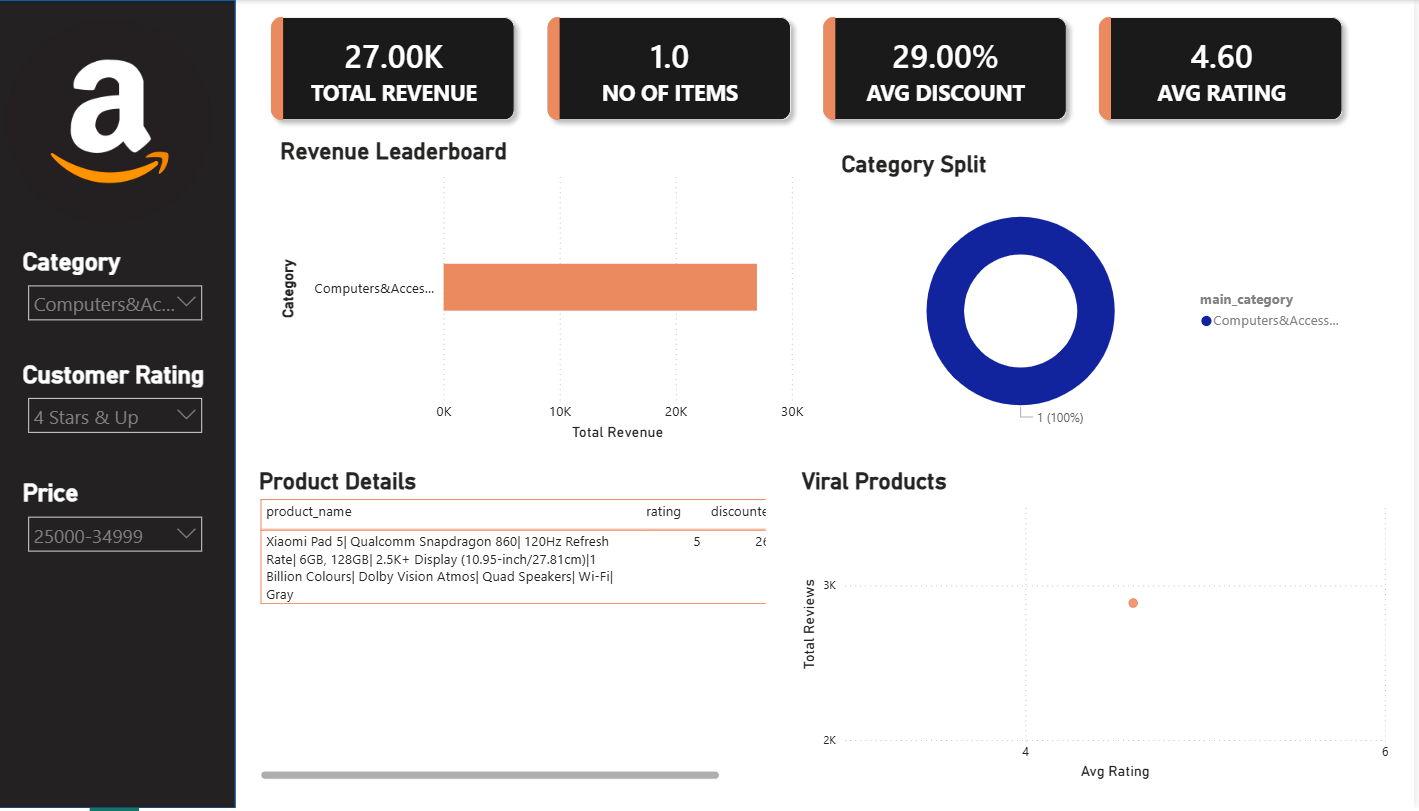

What the dashboard file says about the page in this screenshot:
{"tool":"powerbi","page":{"name":"Page 1","canvas":[1400,800],"ordinal":0},"visuals":[{"type":"shape","box":[0,0,234.1,800],"z":0},{"type":"image","box":[7.5,18,202.6,202.6],"z":1000},{"type":"slicer","title":"Category","fields":{"Values":["amazon_cleaned.main_category"]},"box":[18,244.6,192.1,91.6],"z":2000},{"type":"slicer","title":"Customer Rating","fields":{"Values":["amazon_cleaned.rating filter"]},"box":[18,355.7,192.1,85.5],"z":3000},{"type":"cardVisual","fields":{"Data":["amazon_cleaned.Total Revenue","Count(amazon_cleaned.product_id)","amazon_cleaned.Avg Discount %","amazon_cleaned.Avg Rating"]},"box":[252.1,0,1094.1,136.6],"z":4000},{"type":"clusteredBarChart","title":"Revenue Leaderboard","fields":{"Category":["amazon_cleaned.main_category"],"Y":["amazon_cleaned.Total Revenue"]},"box":[273.2,136.6,528.3,304.7],"z":5000},{"type":"donutChart","title":"Category Split ","fields":{"Category":["amazon_cleaned.main_category"],"Y":["CountNonNull(amazon_cleaned.product_id)"]},"box":[828.5,148.6,517.8,292.7],"z":6000},{"type":"tableEx","title":"Product Details","fields":{"Values":["amazon_cleaned.product_name","amazon_cleaned.rating","amazon_cleaned.discounted_price"]},"box":[252.3,473.7,512.1,312.9],"z":7000},{"type":"scatterChart","title":"Viral Products","fields":{"Category":["amazon_cleaned.product_name"],"Y":["amazon_cleaned.Total Reviews"],"X":["amazon_cleaned.Avg Rating"]},"box":[789.5,462.3,591.3,313.7],"z":8000},{"type":"slicer","title":"Price","fields":{"Values":["amazon_cleaned.discounted_price group"]},"box":[18,474.3,192.1,85.5],"z":9000}]}

Visuals, with their boxes in screenshot pixels (x1, y1, x2, y2), scaled from the page's 1400x800 canvas onto the 1419x811 screenshot:
shape: select_region(0, 0, 237, 810)
image: select_region(8, 18, 213, 224)
"Category" slicer: select_region(18, 248, 213, 341)
"Customer Rating" slicer: select_region(18, 361, 213, 447)
cardVisual - amazon_cleaned.Total Revenue x Count(amazon_cleaned.product_id): select_region(256, 0, 1364, 138)
"Revenue Leaderboard" clusteredBarChart: select_region(277, 138, 812, 447)
"Category Split " donutChart: select_region(840, 151, 1365, 447)
"Product Details" tableEx: select_region(256, 480, 775, 797)
"Viral Products" scatterChart: select_region(800, 469, 1400, 787)
"Price" slicer: select_region(18, 481, 213, 567)
